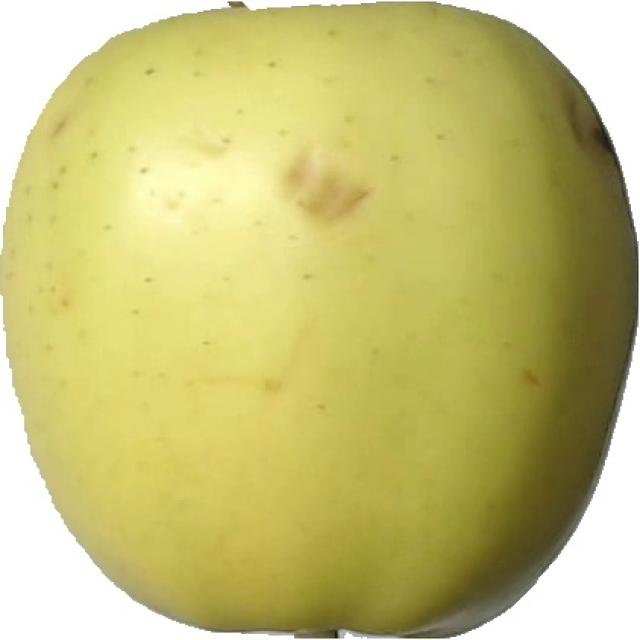Golden Elma: (1, 0, 640, 640), (7, 3, 640, 637)
